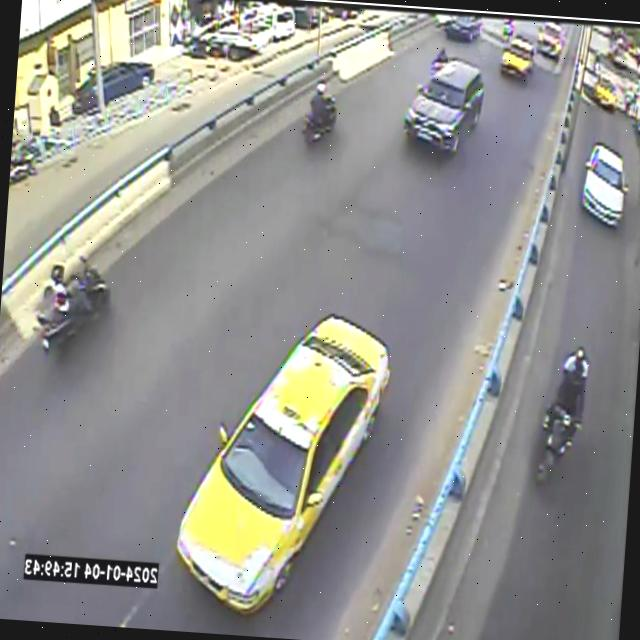car: (177, 314, 390, 612), (404, 59, 483, 153), (501, 36, 535, 78), (538, 22, 565, 59), (444, 14, 481, 41)
